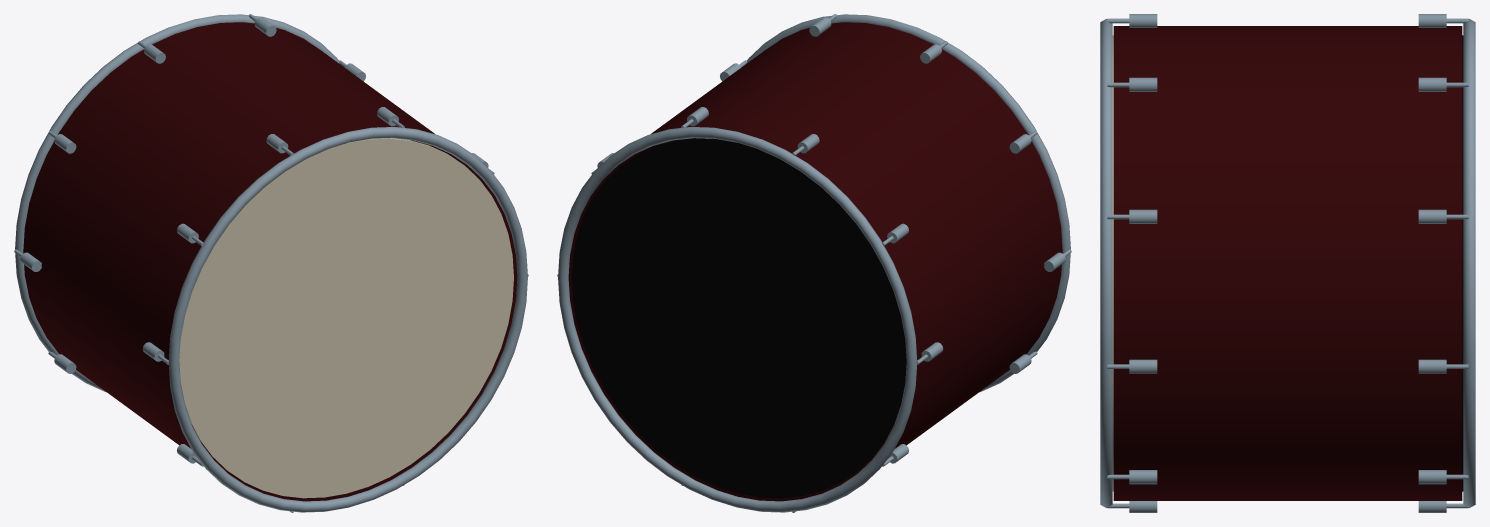
Rendered from Kick.obj.
3 views of the same model, side by side, from view 1: azimuth 30°, elevation 25°; view 2: azimuth 150°, elevation 25°; view 3: azimuth 270°, elevation 25° (orthographic). The views are drawn at different scales.
Parts seen in each view (by area): view 1: Kick_shell.001; view 2: Kick_shell.001; view 3: Kick_shell.001.
Boxes of the visible parts, <box> form: Kick_shell.001: <box>14,14,528,512</box>; Kick_shell.001: <box>557,14,1071,512</box>; Kick_shell.001: <box>1100,14,1475,512</box>.
Bounding box in the file's own units: 0.634 × 0.618 × 0.4736.
